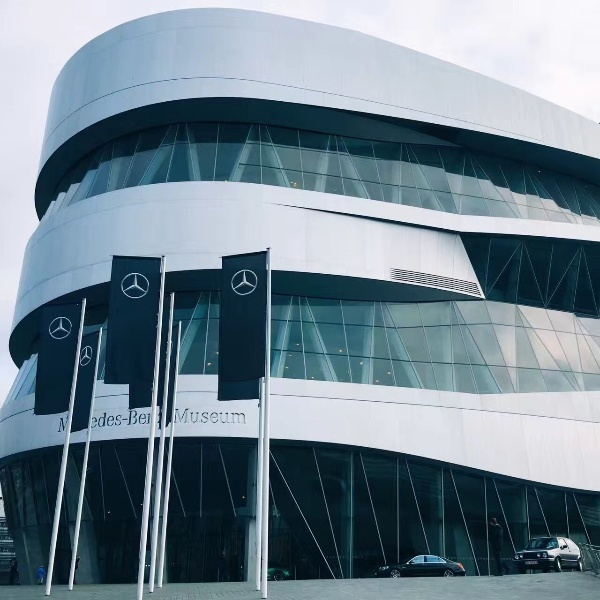text: (177, 408, 192, 426), (193, 408, 208, 426), (209, 408, 224, 426), (225, 408, 240, 426), (97, 411, 112, 429), (113, 411, 128, 429), (129, 411, 144, 429), (145, 411, 151, 429), (241, 408, 246, 426), (92, 411, 96, 429), (529, 560, 538, 568), (65, 418, 69, 435), (61, 418, 64, 435), (526, 560, 528, 568)
